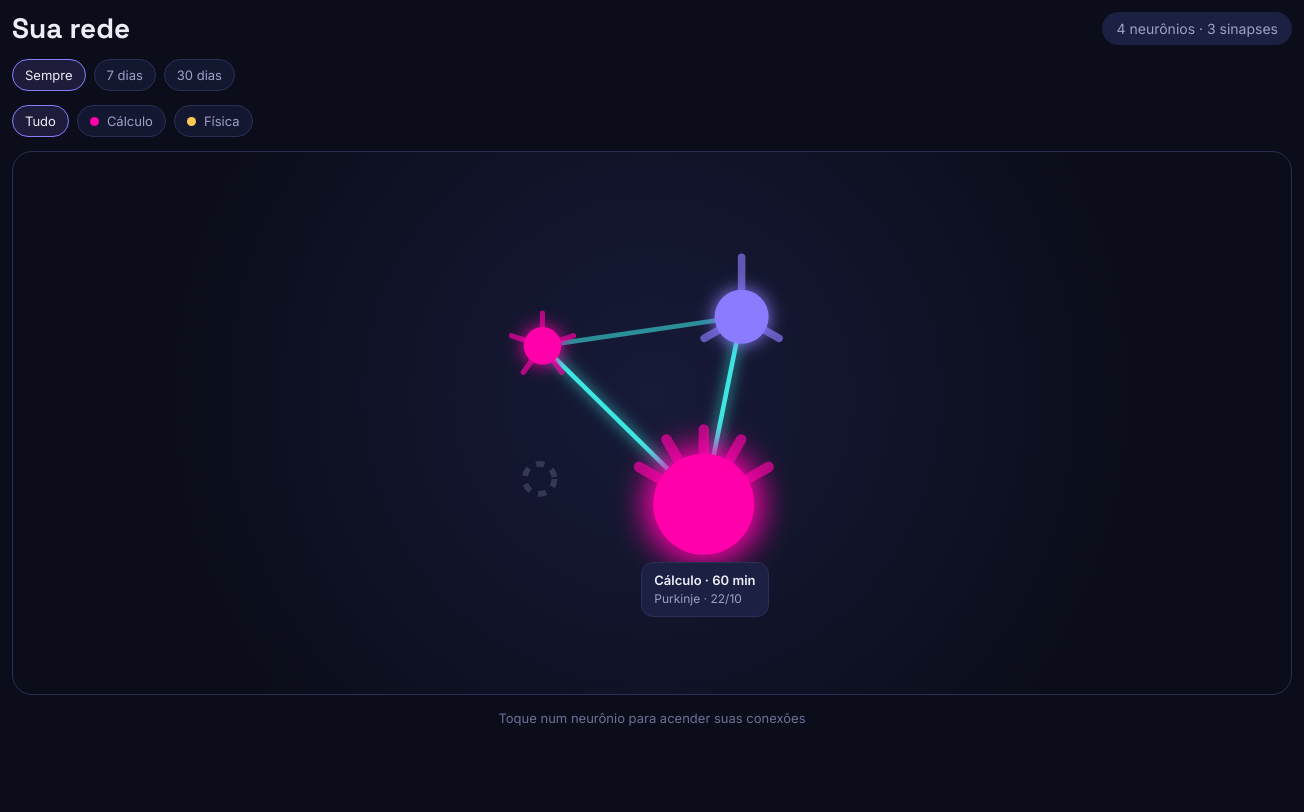
Test: tela da rede neural › tocar no fundo apaga o realce e a dica
This screenshot has width=1304, height=812.
Expected: the text "4 neurônios · 3 sinapses" is shown, [1102,12,1292,45]
Click the picture named "Rede com" at coordinates (652, 423), box [13,152,1291,694]
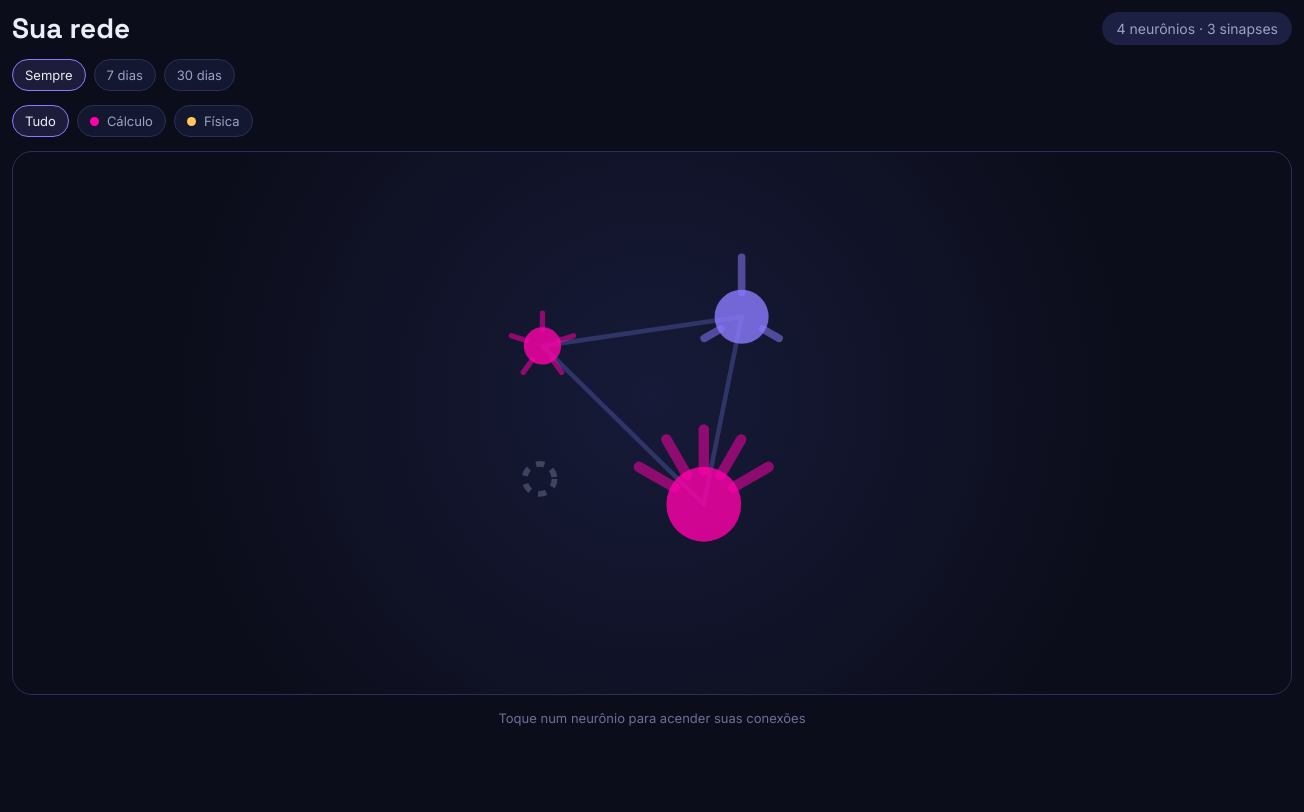
Expected: the text " min" is gone
